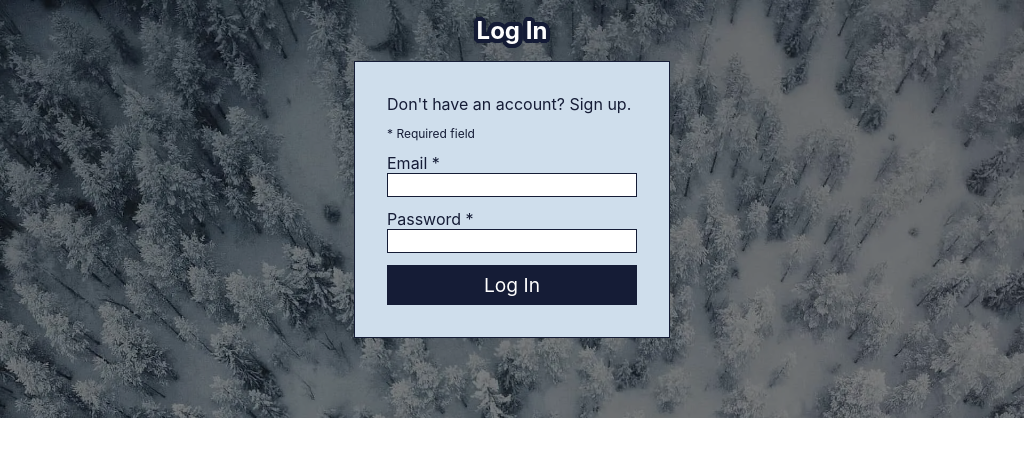
Test: Displays error message on invalid login attempt
Click the button "Log In": (512, 285) [387,265,637,305]
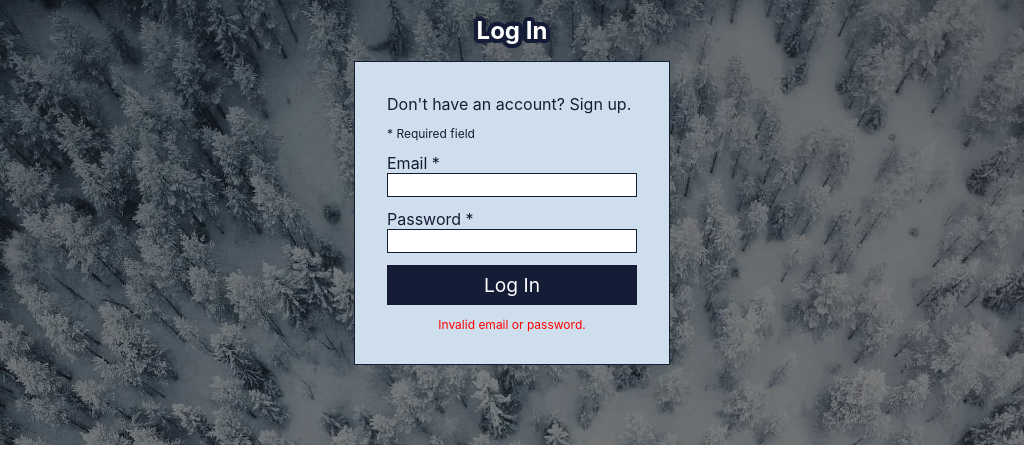
Expected: the text "Invalid email or password." is shown, [438,317,586,332]
